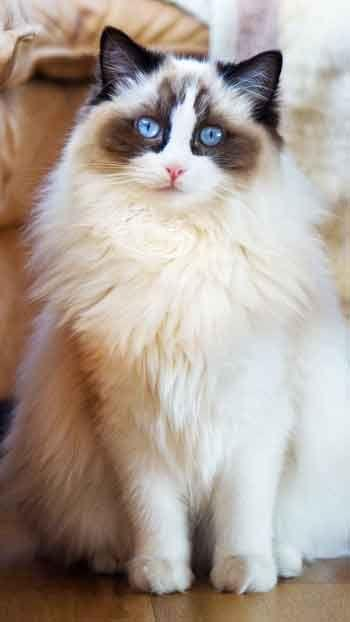ragdoll: (82, 24, 296, 219)
